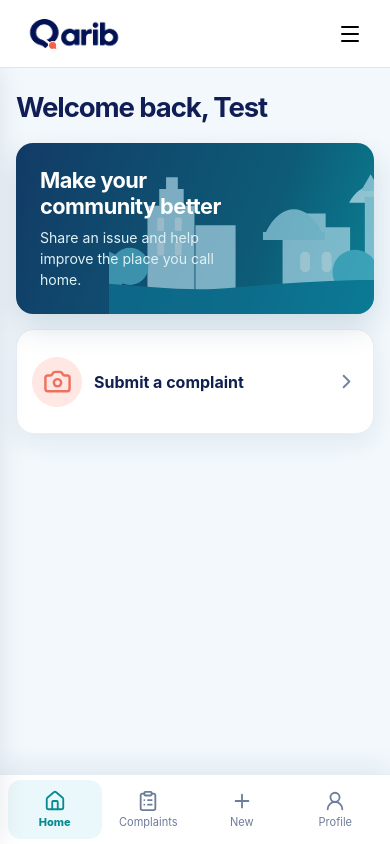
authentication pages › closes the portal navigation when the mobile backdrop is tapped
Click the button named "Open navigation" at (350, 34), box [328, 12, 372, 56]
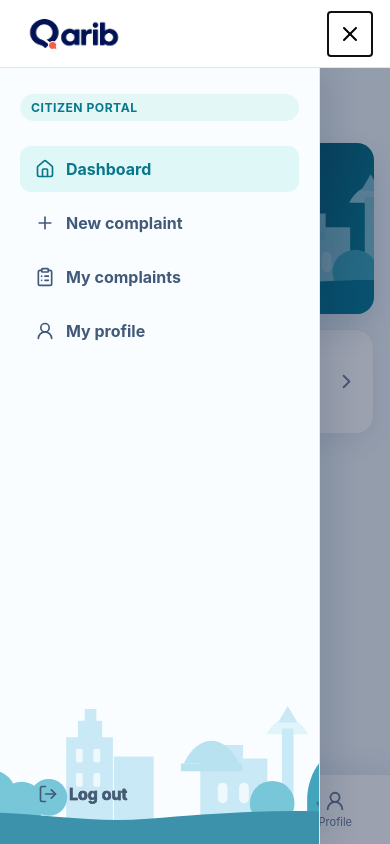
Now the 1st button named "Close navigation" is expanded, box [328, 12, 372, 56]
Click the 2nd button named "Close navigation" at (367, 456), box [0, 68, 389, 843]
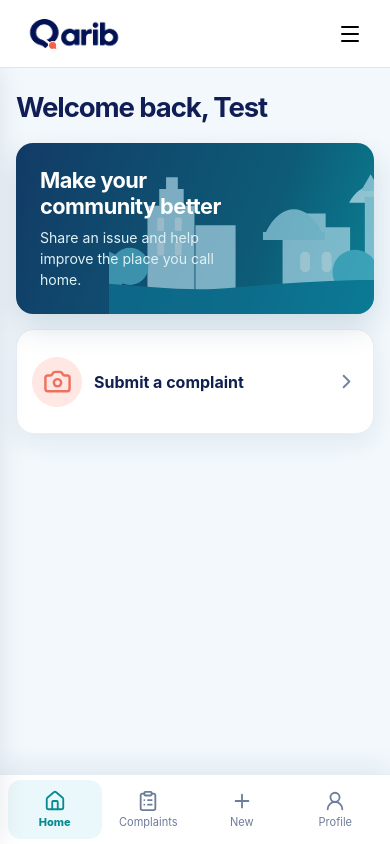
Now the button named "Open navigation" is collapsed, box [328, 12, 372, 56]
